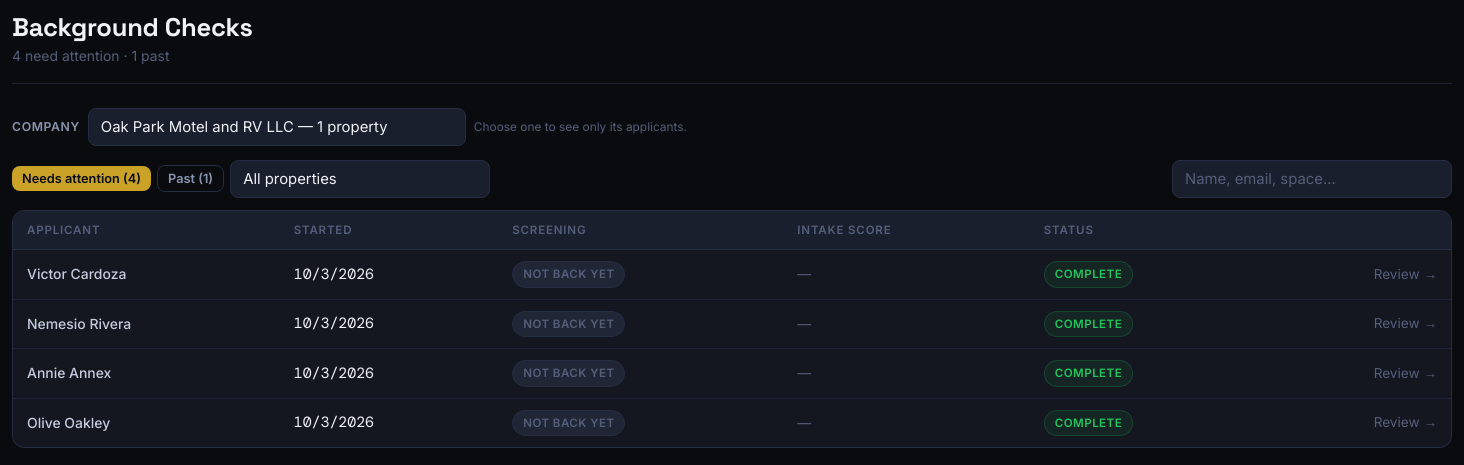
Test case: narrowing the screening list › starts on every company, then shows one company and only its parks
Select "Oak Park Motel and RV LLC — 1 property" in the dropdown next to "Company" at (277, 127), box [88,108,466,146]
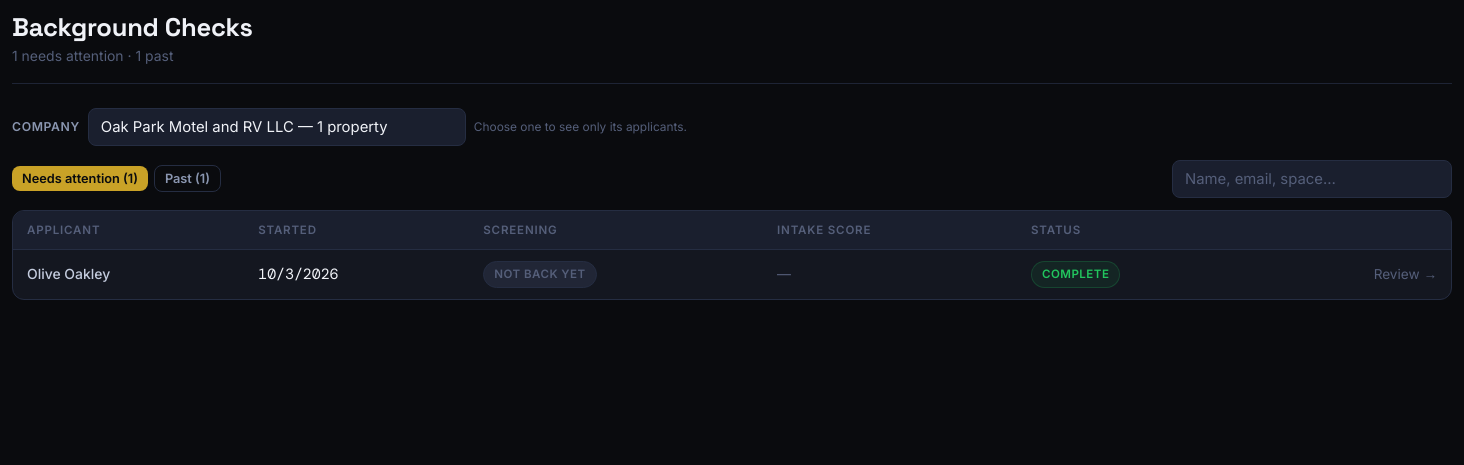
expect the text "1 needs attention · 1 past" is shown: met, box [12,47,174,64]
